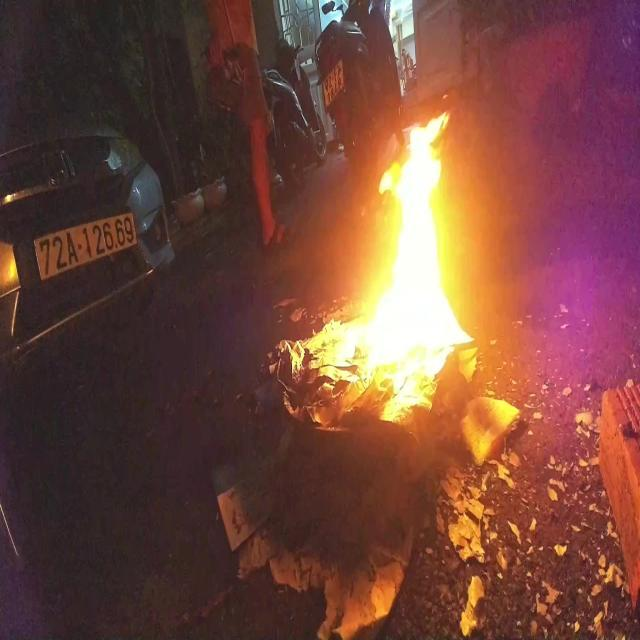Fire: (292, 106, 476, 436)
